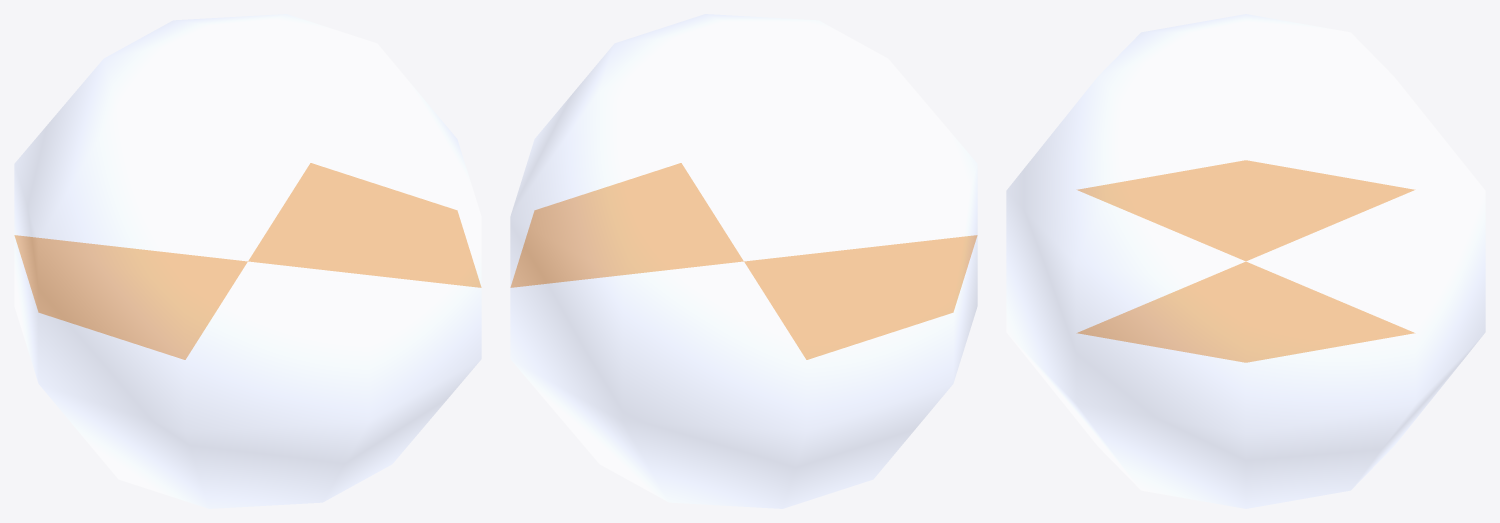
Rendered from marble-center-butterfly-low.glb.
3 renders of one model, left to right at view 1: azimuth 30°, elevation 25°; view 2: azimuth 150°, elevation 25°; view 3: azimuth 270°, elevation 25°, orthographic.
Visible parts, largest first — view 1: (%ignore), marble-center-butterfly-low; view 2: (%ignore), marble-center-butterfly-low; view 3: (%ignore), marble-center-butterfly-low.
Part boxes in pixels (x1,y1,x2,y2): (%ignore): (14,14,481,508); marble-center-butterfly-low: (14,163,481,359); (%ignore): (510,14,977,508); marble-center-butterfly-low: (510,163,977,359); (%ignore): (1006,14,1485,508); marble-center-butterfly-low: (1077,160,1414,362).
Bounding box in the file's own units: 0.3804 × 0.4 × 0.3804.
